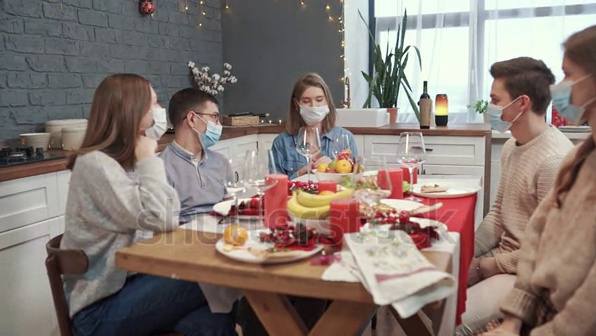Mask: (89, 75, 174, 144), (477, 60, 553, 134), (541, 28, 596, 129), (164, 90, 230, 153), (285, 73, 340, 133)
